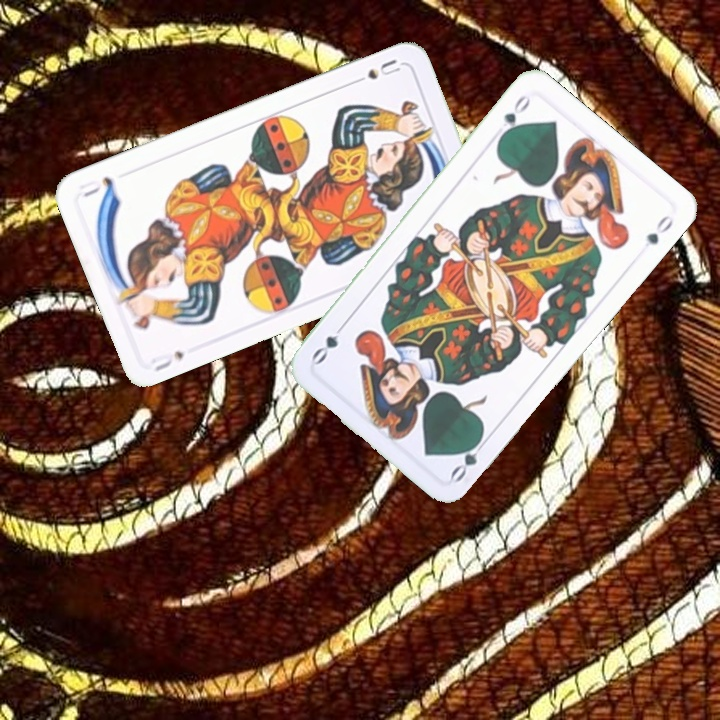GO: (446, 430, 492, 485), (495, 90, 533, 143)
SU: (347, 55, 403, 88), (146, 346, 187, 375)
